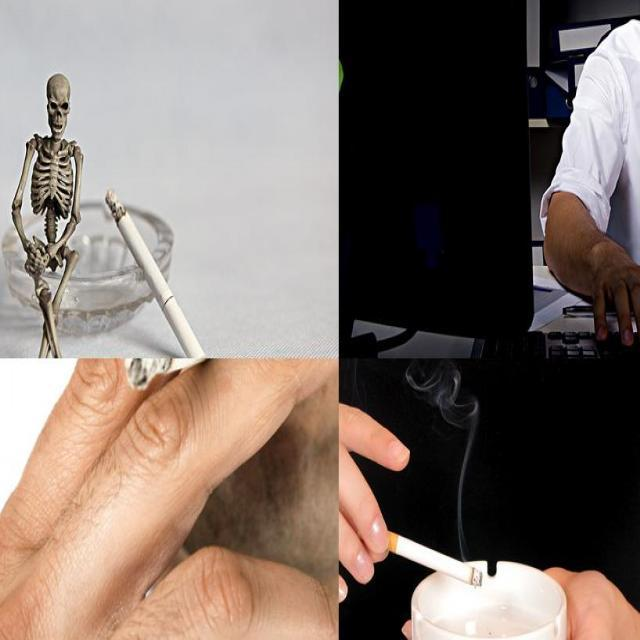smoke: (104, 187, 207, 357), (356, 522, 484, 590), (120, 358, 282, 387)
